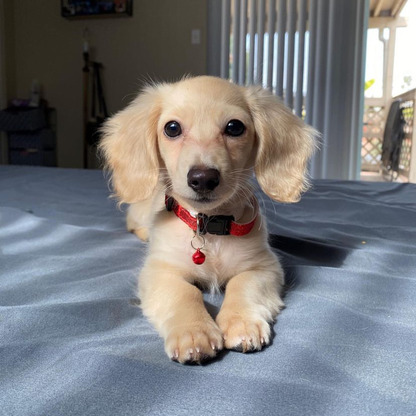dachshund: (88, 63, 337, 368)
